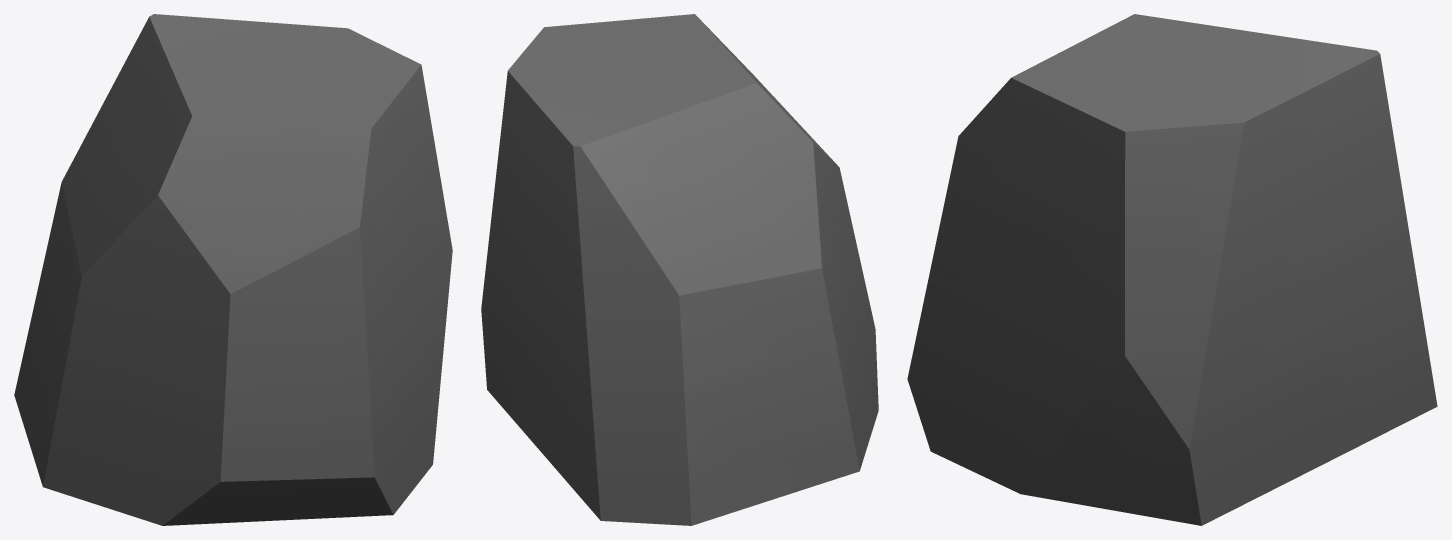
Rendered from SmallRock_02.fbx.
3 renders of one model, left to right at view 1: azimuth 30°, elevation 25°; view 2: azimuth 150°, elevation 25°; view 3: azimuth 270°, elevation 25°, orthographic. The views are drawn at different scales.
Visible parts, largest first — view 1: small_rock_06; view 2: small_rock_06; view 3: small_rock_06.
Part boxes in pixels (x1,y1,x2,y2): small_rock_06: [14, 14, 452, 525]; small_rock_06: [481, 14, 878, 525]; small_rock_06: [907, 14, 1437, 525].
Size of the model in its own units: 156 by 137 by 172.
1 material, 1 textured.
